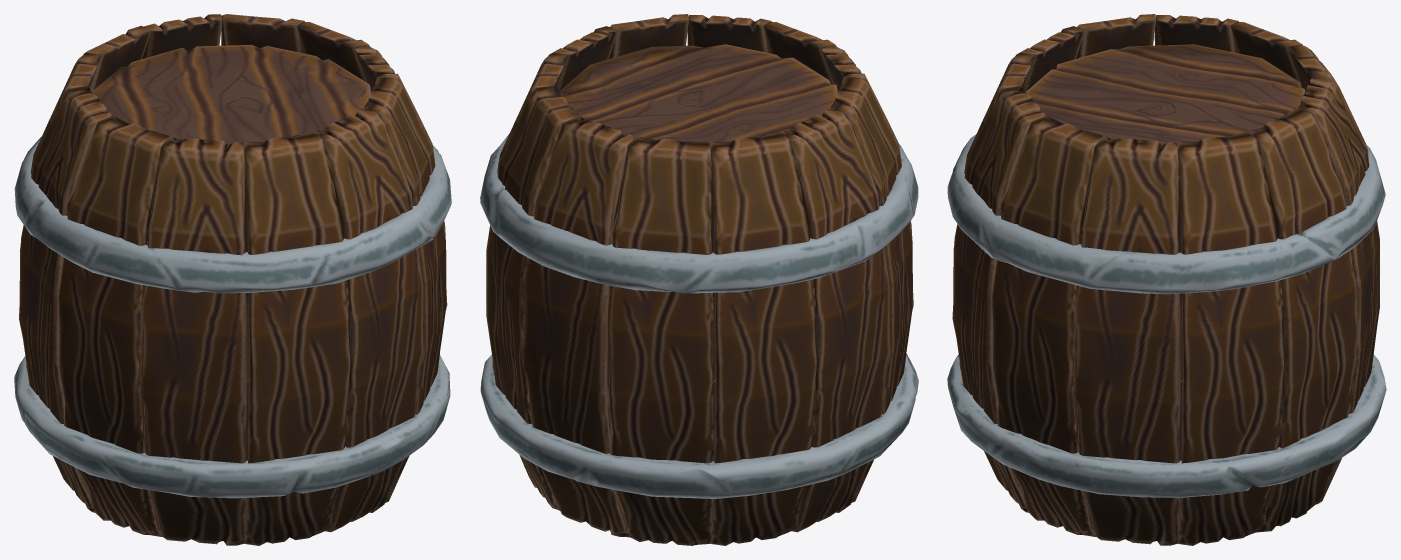
File: Barrel3.glb
3 renders of one model, left to right at view 1: azimuth 30°, elevation 25°; view 2: azimuth 150°, elevation 25°; view 3: azimuth 270°, elevation 25°, orthographic.
Visible parts, largest first — view 1: Barrel2; view 2: Barrel2; view 3: Barrel2.
Part boxes in pixels (<box>): Barrel2: <box>14,14,451,545</box>; Barrel2: <box>480,14,918,545</box>; Barrel2: <box>947,14,1386,545</box>.
Size of the model in its own units: 2 by 2 by 2.
Materials: 1 (1 with a texture image).
